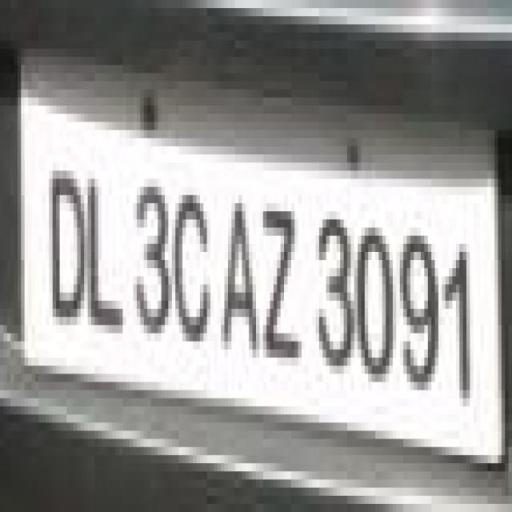number plate: (3, 106, 484, 422)
